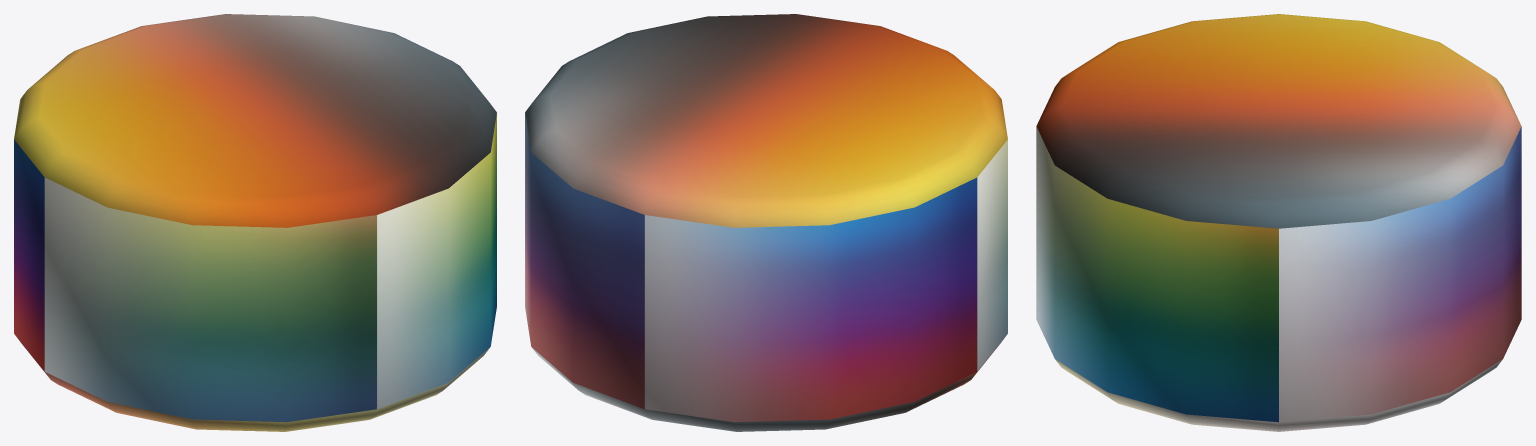
The model's file is Block.fbx.
3 views of the same model, side by side, from view 1: azimuth 30°, elevation 25°; view 2: azimuth 150°, elevation 25°; view 3: azimuth 270°, elevation 25° (orthographic).
Parts seen in each view (by area): view 1: block; view 2: block; view 3: block.
Boxes of the visible parts, x1,y1,x2,y2 form: block: [14, 14, 496, 431]; block: [525, 14, 1007, 431]; block: [1036, 14, 1521, 431].
Bounding box in the file's own units: 37.77 × 20 × 37.77.
